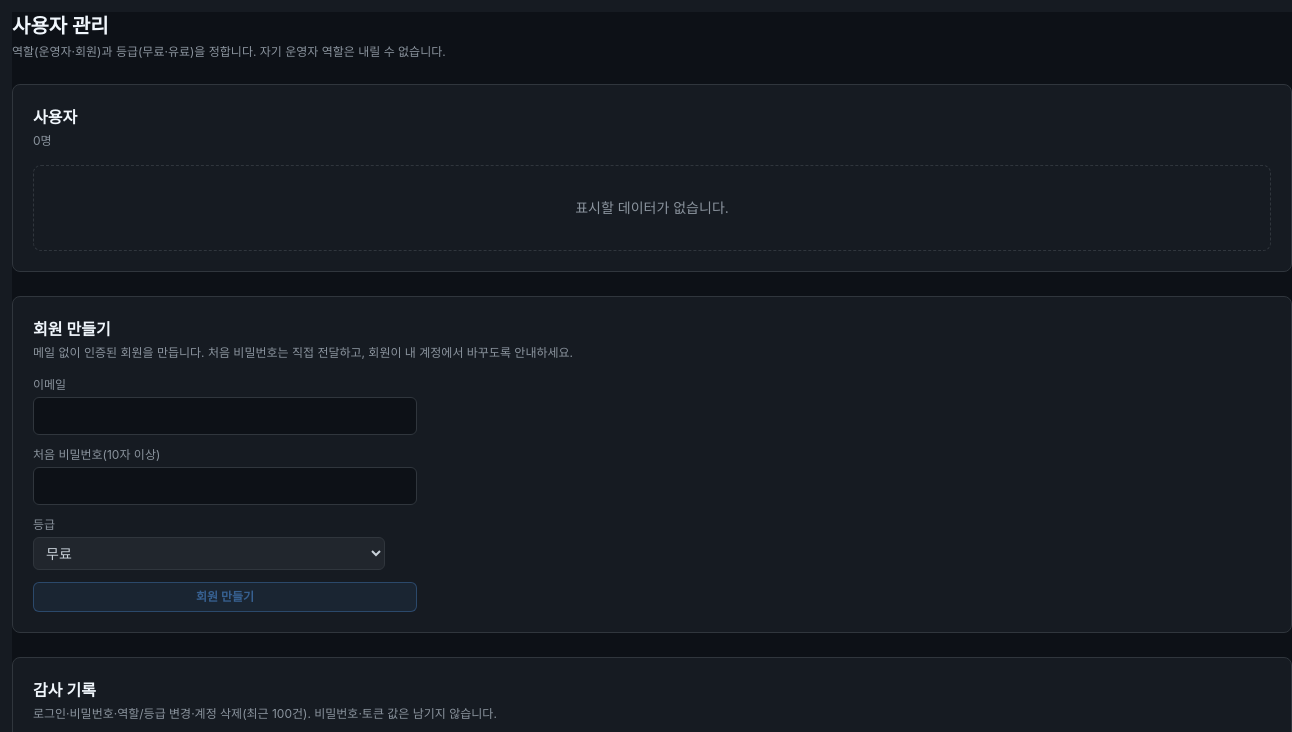
QA-105 사용자 관리 — 회원 만들기 › 성공하면 처음 비밀번호 입력을 지운다
In the field labelled "이메일": (225, 416) [33,397,417,435], type "m@test.local"
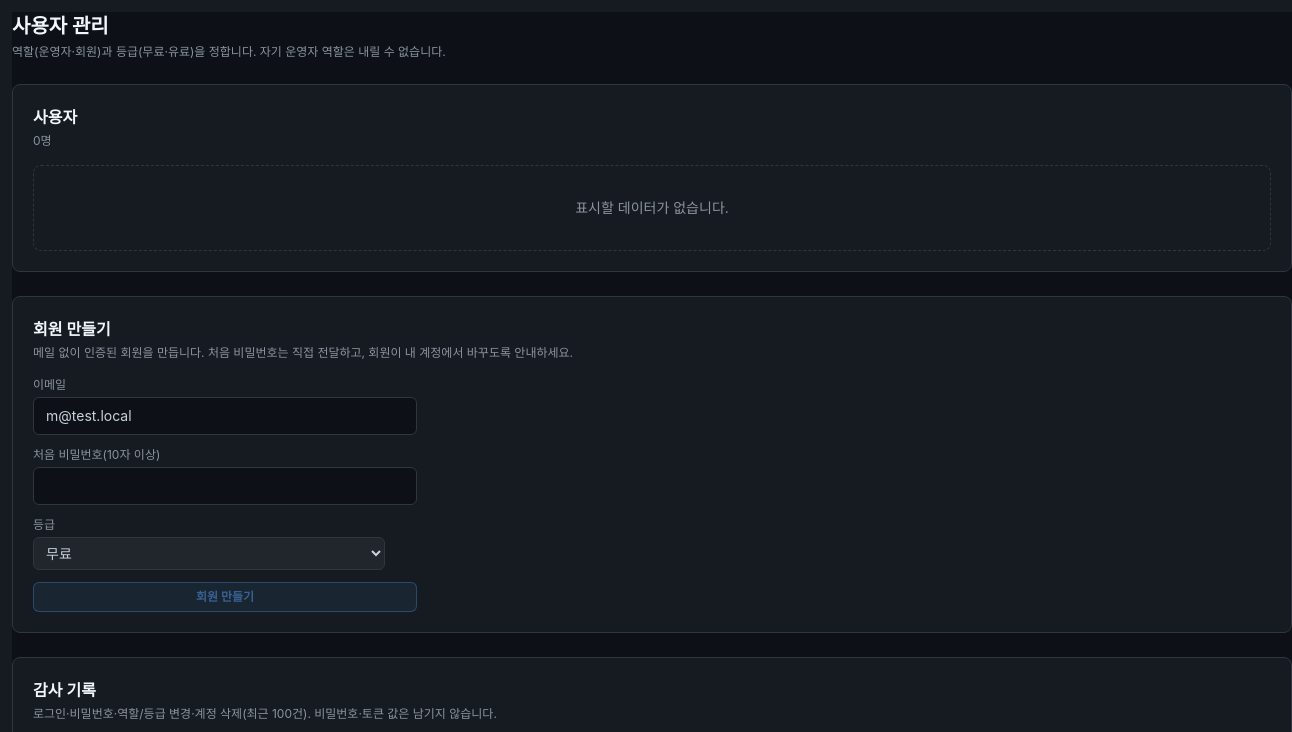
In the password field labelled "처음 비밀번호(10자 이상)": (225, 486) [33,467,417,505], type "Abcdefgh1234!"
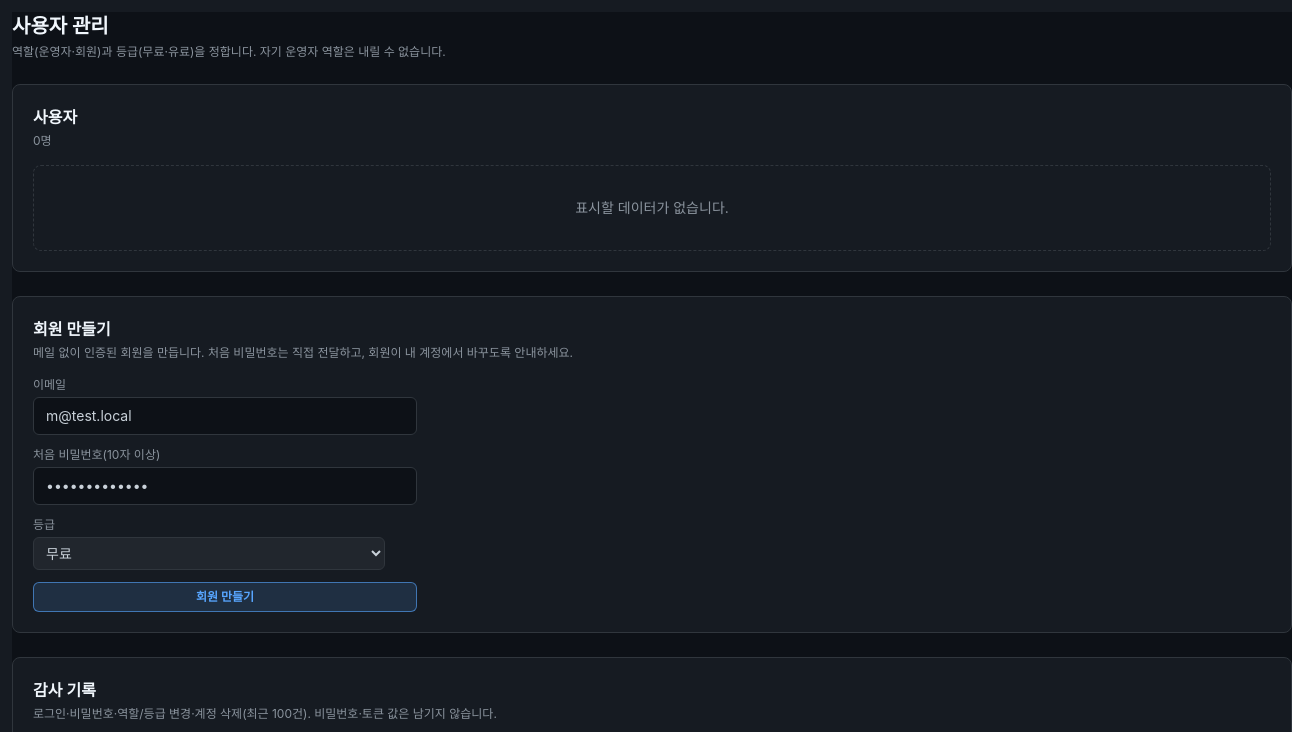
Click the button "회원 만들기": click(225, 597) [33,582,417,612]
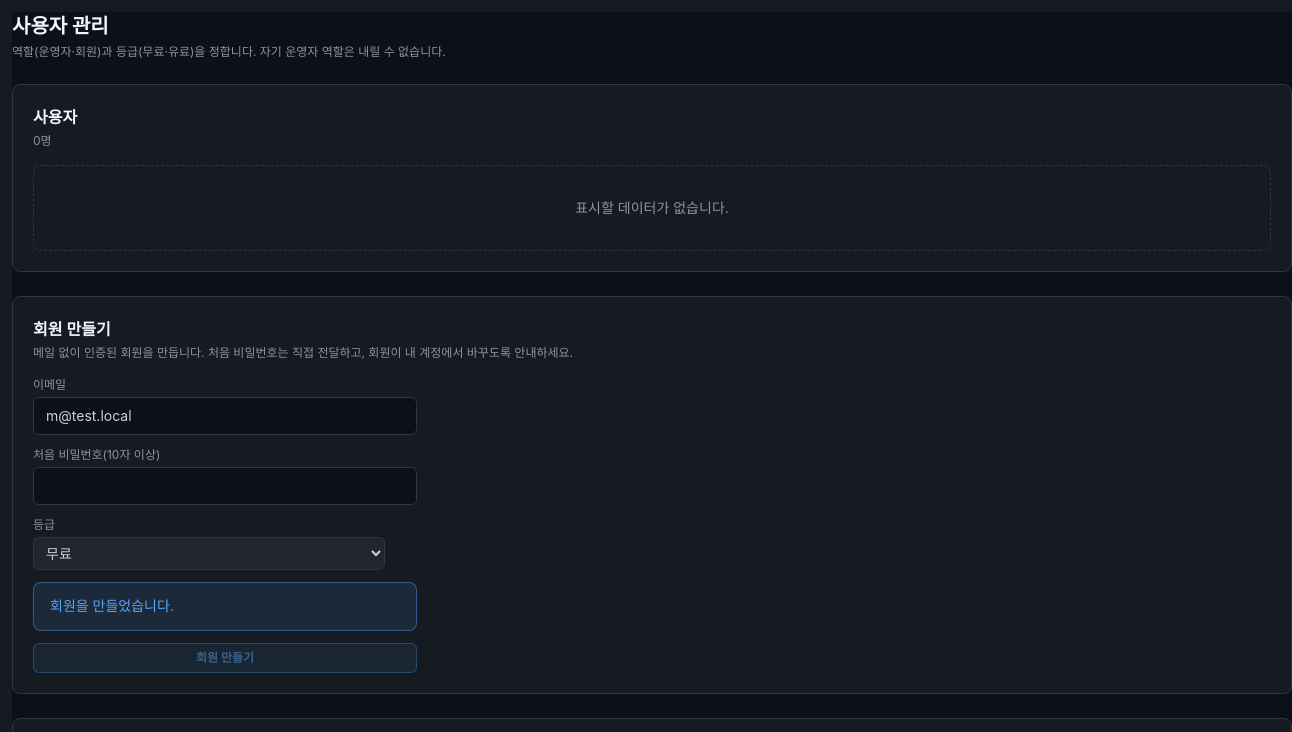
expect the text "회원을 만들었습니다." is shown: met, box [33,582,417,631]
expect the password field labelled "처음 비밀번호(10자 이상)" is empty: met, box [33,467,417,505]
